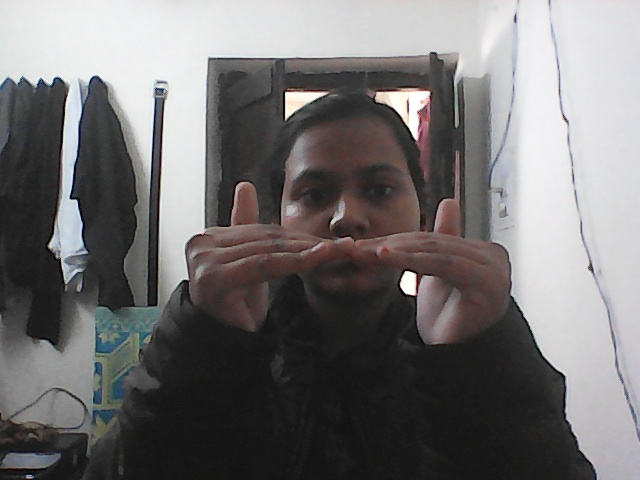Equal: (174, 162, 546, 385)
